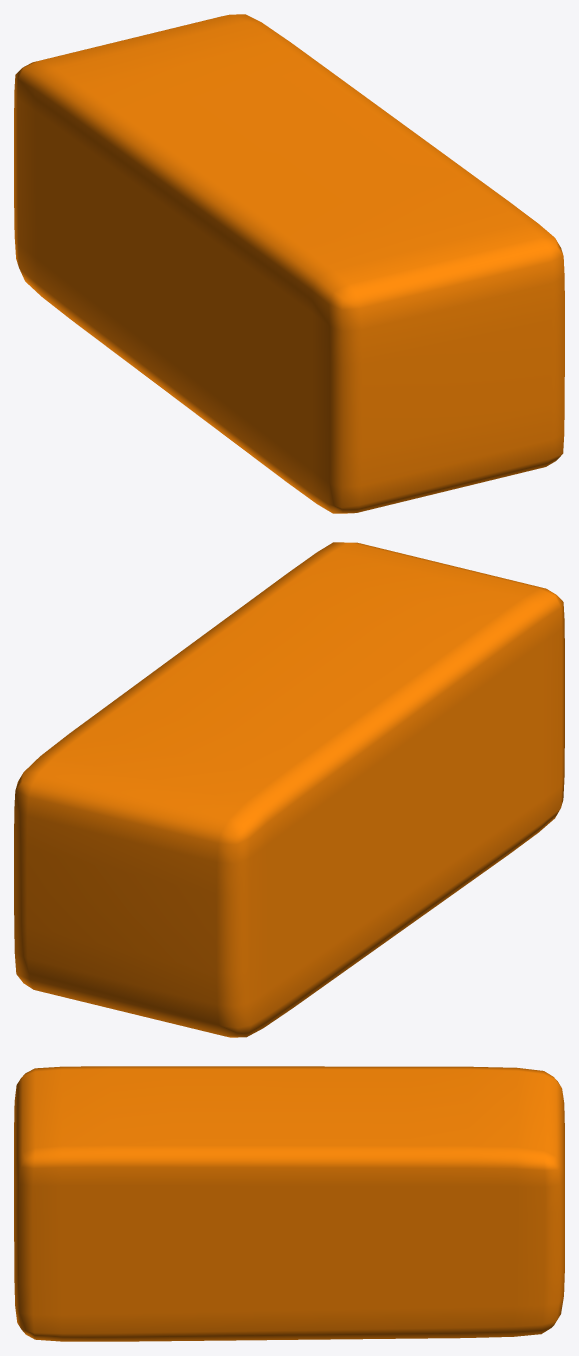
3 renders of one model, top to bottom at view 1: azimuth 30°, elevation 25°; view 2: azimuth 150°, elevation 25°; view 3: azimuth 270°, elevation 25°, orthographic. The views are drawn at different scales.
Parts seen in each view (by area): view 1: A:I_text_0; view 2: A:I_text_0; view 3: A:I_text_0.
Boxes of the visible parts, box(x1,y1,x2,y2) form: A:I_text_0: box(14, 14, 564, 513); A:I_text_0: box(14, 542, 564, 1037); A:I_text_0: box(14, 1066, 564, 1341).
Bounding box in the file's own units: 0.1353 × 0.1312 × 0.3382.
